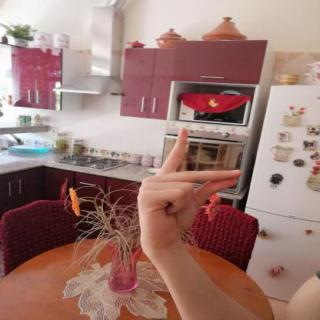TAA: (125, 122, 250, 256)
